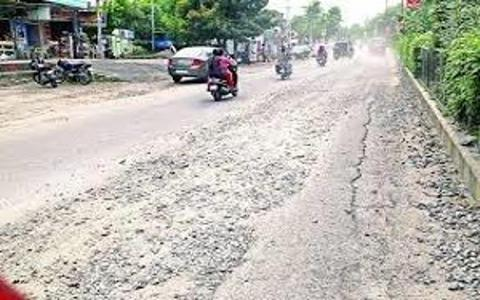patchy roads: (107, 135, 273, 270)
